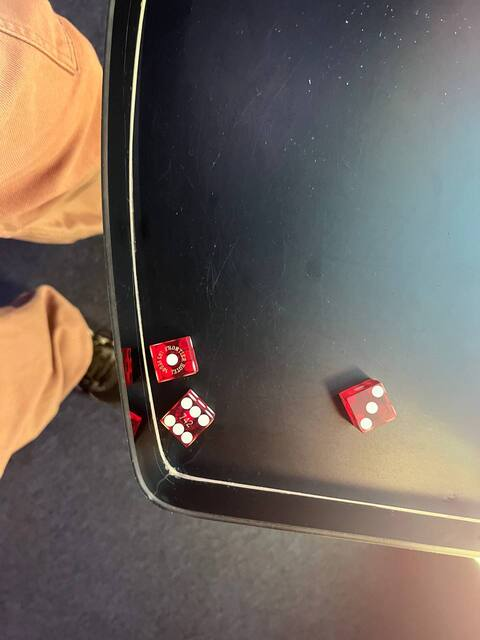one: (146, 333, 202, 388)
six: (157, 394, 216, 449)
three: (344, 379, 399, 436)
